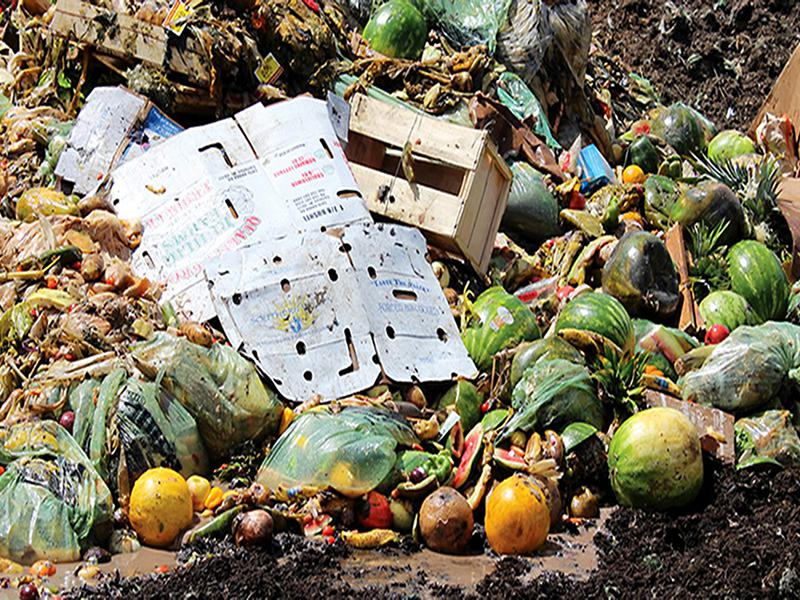paper: (215, 222, 482, 405), (103, 99, 373, 261)
plastic: (252, 410, 424, 504)
vegetation: (417, 88, 800, 565), (3, 185, 276, 579)
